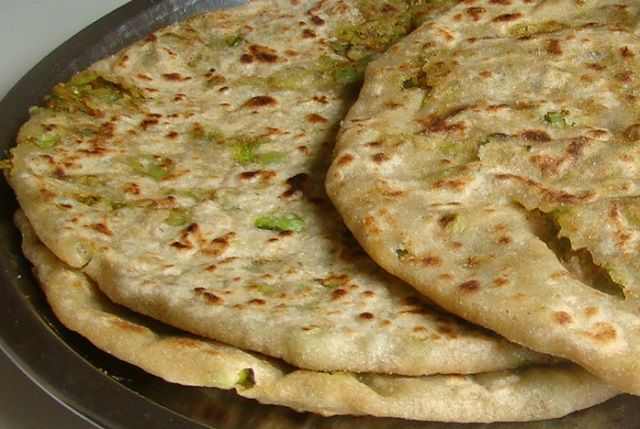aloo_paratha: (11, 4, 640, 423)
